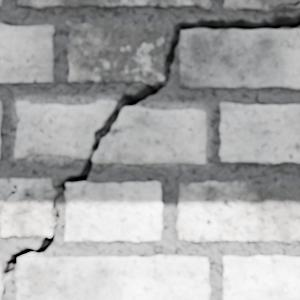brick: (16, 256, 209, 299), (177, 181, 299, 242), (180, 29, 299, 88), (67, 22, 166, 82), (65, 182, 161, 241), (220, 103, 299, 163), (223, 256, 299, 299), (0, 24, 54, 81), (0, 179, 54, 236), (18, 0, 210, 8), (224, 0, 296, 11), (279, 5, 299, 10), (0, 255, 1, 296), (0, 102, 1, 122)
broken_brick: (93, 105, 206, 164), (14, 100, 115, 159)
crack: (0, 12, 299, 299), (0, 184, 17, 237), (274, 0, 299, 11), (287, 236, 299, 243)
